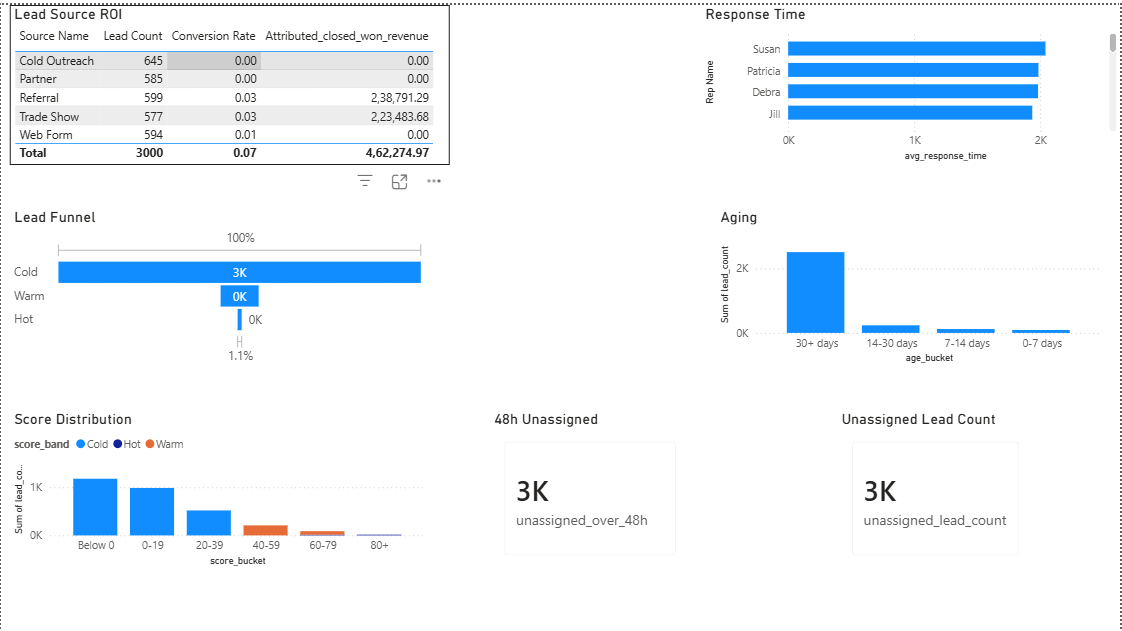

Layout of this report page (visuals, bound fields, positions):
{"tool":"powerbi","page":{"name":"Lead Funnel","canvas":[1280,720],"ordinal":3},"visuals":[{"type":"tableEx","title":"Lead Source ROI","fields":{"Values":["public vw_lead_source_roi.source_name","Sum(public vw_lead_source_roi.lead_count)","Sum(public vw_lead_source_roi.conversion_rate)","Sum(public vw_lead_source_roi.attributed_closed_won_revenue)"]},"box":[10,0,503.3,183.3],"z":0},{"type":"funnel","title":"Lead Funnel","fields":{"Category":["public vw_lead_score_distribution.score_band"],"Y":["Sum(public vw_lead_score_distribution.lead_count)"]},"box":[10,231.7,480,183.3],"z":1},{"type":"columnChart","title":"Score Distribution","fields":{"Category":["public vw_lead_score_distribution.score_bucket"],"Series":["public vw_lead_score_distribution.score_band"],"Y":["Sum(public vw_lead_score_distribution.lead_count)"]},"box":[10,463.3,480,183.3],"z":2},{"type":"barChart","title":"Response Time","fields":{"Category":["23_response_time_by_rep.first_name"],"Y":["Sum(23_response_time_by_rep.avg_response_hours)"]},"box":[800,0,480,183.3],"z":3},{"type":"columnChart","title":"Aging","fields":{"Category":["public vw_lead_aging.age_bucket"],"Y":["Sum(public vw_lead_aging.lead_count)"]},"box":[816.7,231.7,446.7,183.3],"z":4},{"type":"cardVisual","title":"Unassigned Lead Count","fields":{"Data":["Sum(20_unassigned_lead_backlog.unassigned_lead_count)"]},"box":[955,463.3,225,183.3],"z":5},{"type":"cardVisual","title":"48h Unassigned","fields":{"Data":["Sum(20_unassigned_lead_backlog.unassigned_over_48h)"]},"box":[558.3,463.3,230,183.3],"z":6}]}

Visuals, with their boxes in screenshot pixels (x1, y1, x2, y2), scaled from the page's 1280x720 canvas onto the 1122x631 screenshot:
"Lead Source ROI" tableEx: x1=9 y1=0 x2=450 y2=161
"Lead Funnel" funnel: x1=9 y1=203 x2=430 y2=364
"Score Distribution" columnChart: x1=9 y1=406 x2=430 y2=567
"Response Time" barChart: x1=701 y1=0 x2=1121 y2=161
"Aging" columnChart: x1=716 y1=203 x2=1107 y2=364
"Unassigned Lead Count" cardVisual: x1=837 y1=406 x2=1034 y2=567
"48h Unassigned" cardVisual: x1=489 y1=406 x2=691 y2=567
